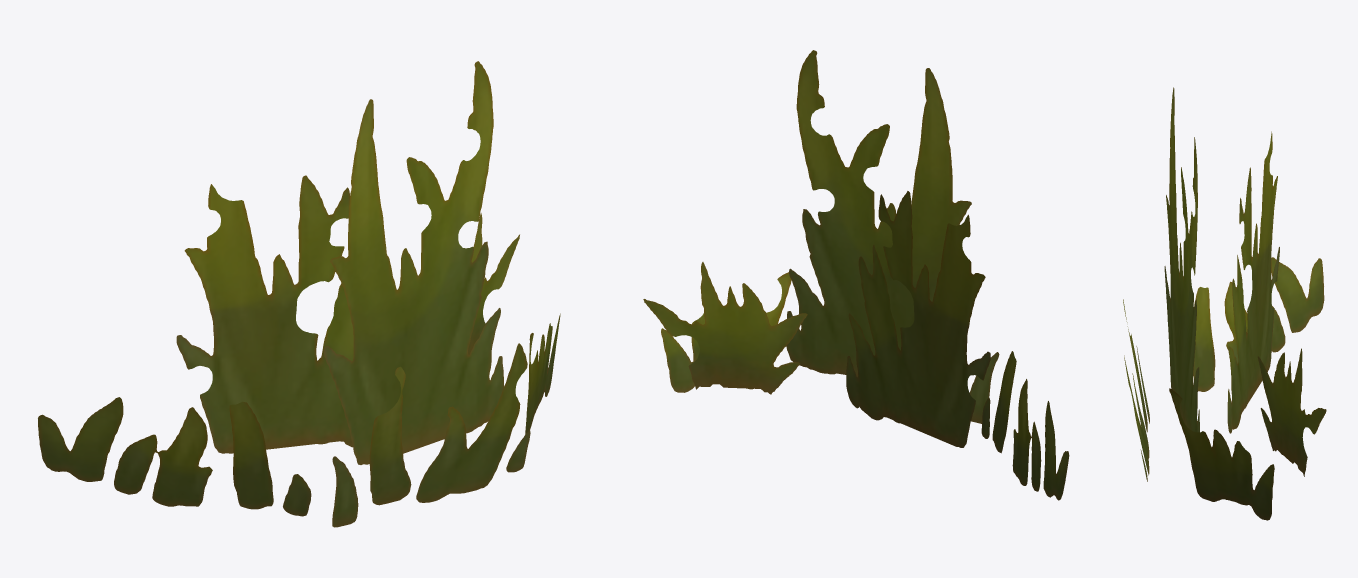
The model's file is Tegra_Grass03.FBX.
3 views of the same model, side by side, from view 1: azimuth 30°, elevation 25°; view 2: azimuth 150°, elevation 25°; view 3: azimuth 270°, elevation 25° (orthographic). The views are drawn at different scales.
Parts seen in each view (by area): view 1: Tegra_Grass03; view 2: Tegra_Grass03; view 3: Tegra_Grass03.
Boxes of the visible parts, bbox=[...] form: Tegra_Grass03: bbox=[38, 61, 560, 527]; Tegra_Grass03: bbox=[643, 50, 1069, 500]; Tegra_Grass03: bbox=[1123, 87, 1326, 520].
Size of the model in its own units: 217 by 183 by 90.88.
Materials: 1 (1 with a texture image).
